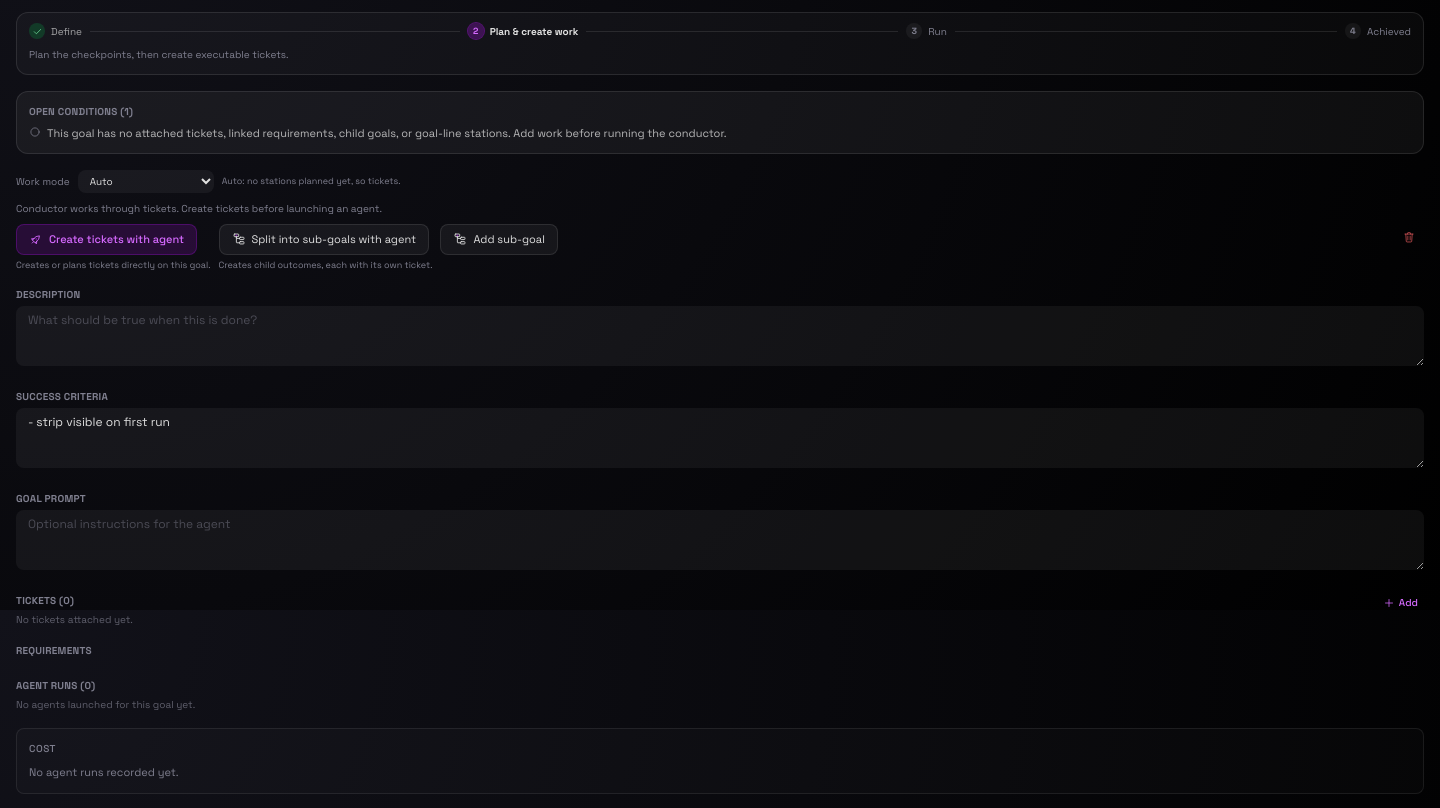
Test: GoalDetailPanel ticket browser › opens a browsable picker of unlinked tickets on demand
(page scrolled)
Click the button with test id "goal-ticket-add-btn": (1400, 602) [1377,593,1424,612]
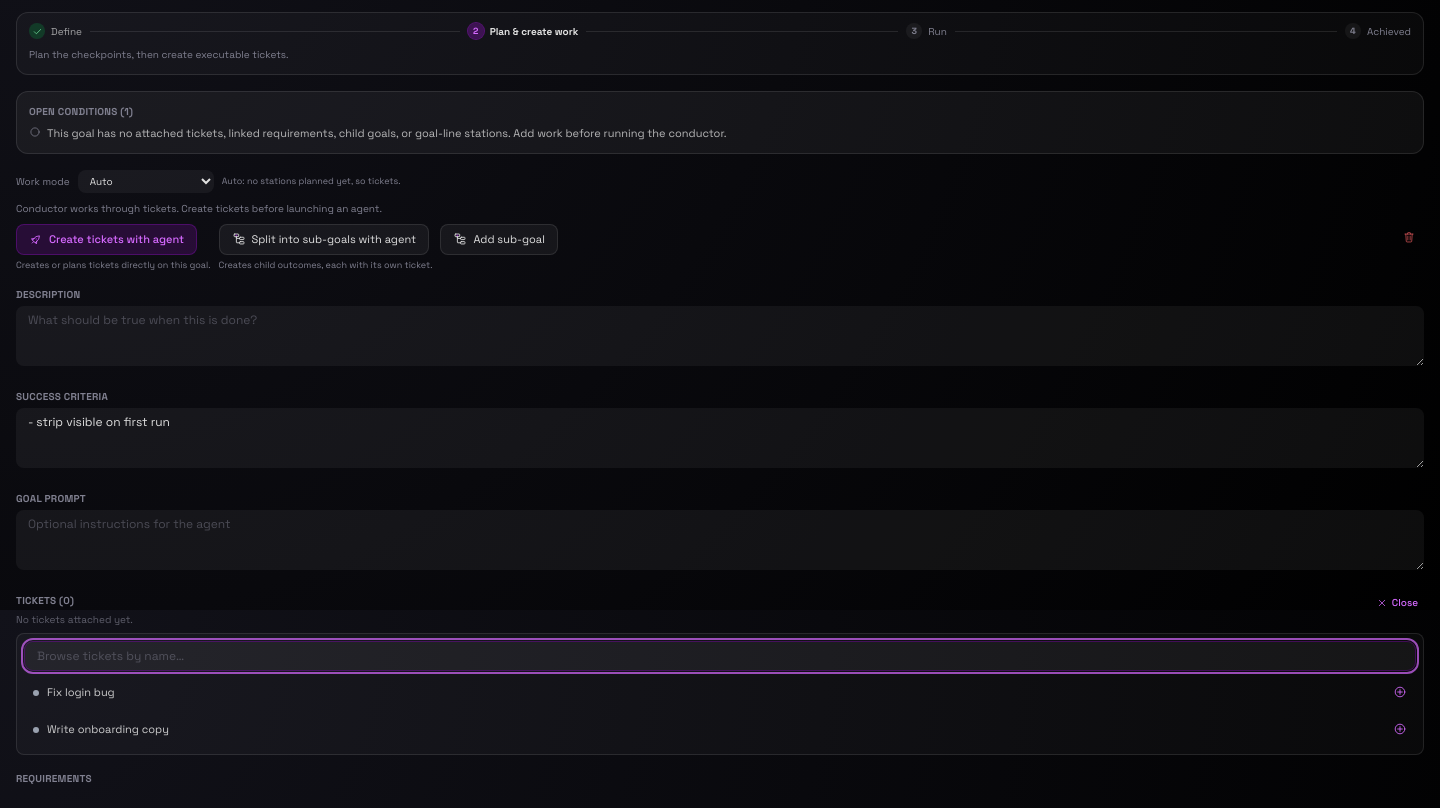
Expected: the field with test id "goal-ticket-picker-search" is shown, [25,642,1415,670]
Expected: the list item with test id "goal-ticket-option-t1" reads "Fix login bug", [47,685,115,699]
Expected: the list item with test id "goal-ticket-option-t2" reads "Write onboarding copy", [47,722,169,736]
